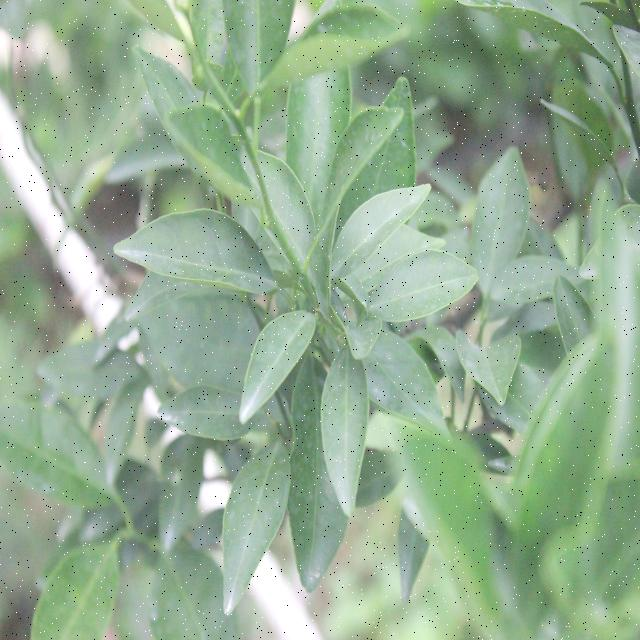healthy: (116, 204, 280, 306), (212, 435, 297, 620), (316, 104, 402, 236), (332, 174, 432, 280), (320, 341, 374, 518), (237, 310, 320, 421), (172, 100, 253, 206), (471, 143, 529, 285), (375, 252, 477, 327)
